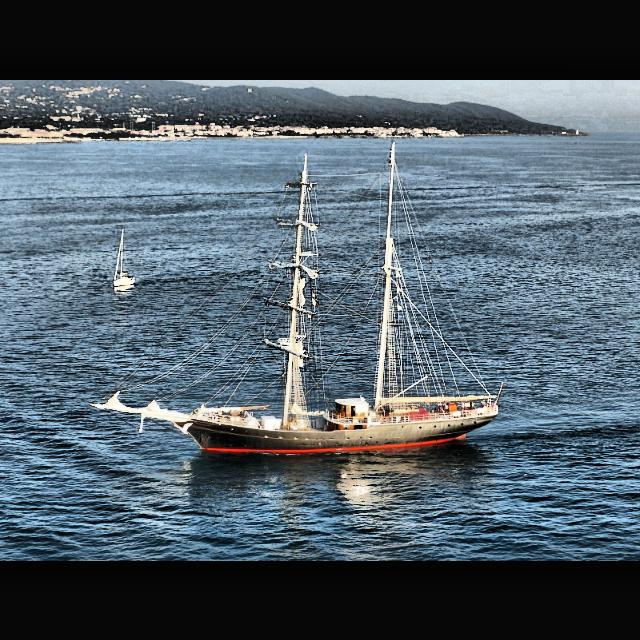sailing_vessel: (89, 140, 499, 454), (114, 228, 134, 288)
